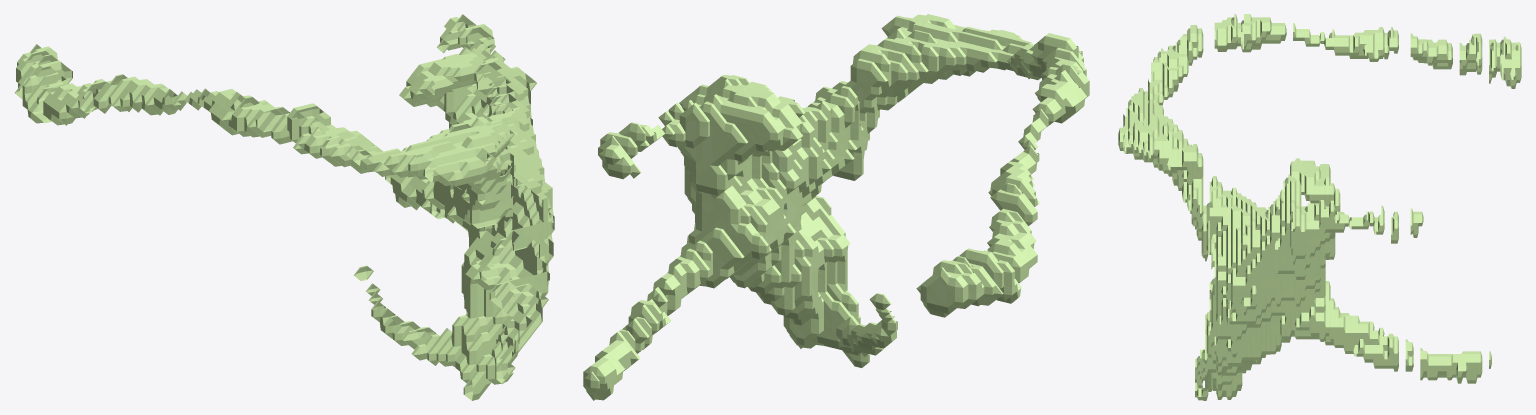
Rendered from SVV_URBL.gltf.
3 renders of one model, left to right at view 1: azimuth 30°, elevation 25°; view 2: azimuth 150°, elevation 25°; view 3: azimuth 270°, elevation 25°, orthographic. The views are drawn at different scales.
Parts seen in each view (by area): view 1: URBL; view 2: URBL; view 3: URBL.
Boxes of the visible parts, left/top/right/bottom form: URBL: left=14, top=14, right=554, bottom=400; URBL: left=583, top=14, right=1089, bottom=400; URBL: left=1118, top=14, right=1521, bottom=400.
Size of the model in its own units: 33293 by 25616 by 31634.
